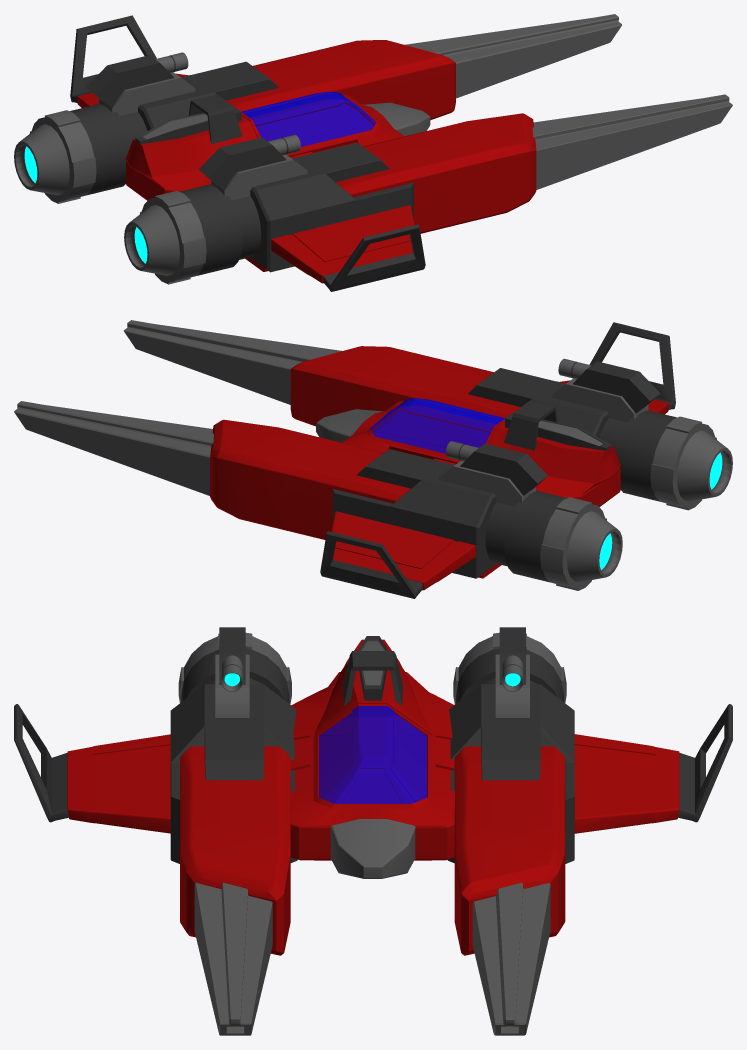
The model's file is FighterShip.fbx.
3 views of the same model, one above another, from view 1: azimuth 30°, elevation 25°; view 2: azimuth 150°, elevation 25°; view 3: azimuth 270°, elevation 25° (orthographic). The views are drawn at different scales.
Parts seen in each view (by area): view 1: Fighter; view 2: Fighter; view 3: Fighter.
Boxes of the visible parts, x1,y1,x2,y2 form: Fighter: (14, 14, 732, 291); Fighter: (14, 320, 732, 598); Fighter: (14, 627, 732, 1035).
Bounding box in the file's own units: 19.37 × 3.62 × 16.36.
